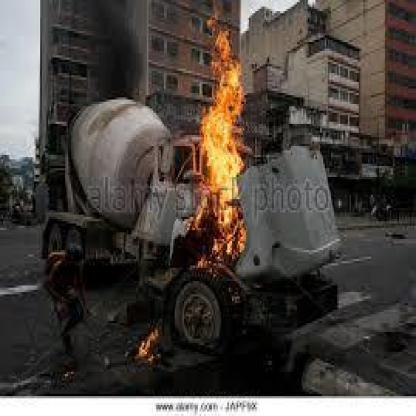fire: (196, 18, 247, 257), (131, 308, 172, 363)
